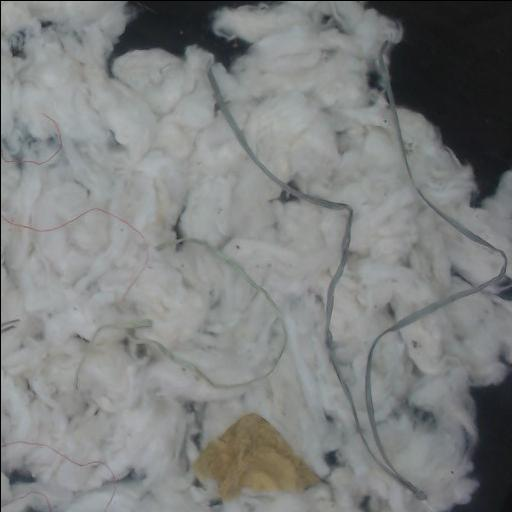cloth: (193, 413, 320, 500)
conveyor belt: (370, 1, 512, 206), (112, 1, 256, 65), (450, 371, 512, 512), (8, 471, 34, 483), (500, 287, 512, 298)
cotton: (1, 1, 501, 512), (372, 294, 512, 510), (398, 106, 512, 276)
thread: (207, 43, 507, 508), (136, 234, 288, 389), (1, 440, 119, 512), (75, 319, 151, 389), (1, 208, 143, 240), (1, 115, 62, 165), (122, 248, 151, 298), (11, 490, 52, 512)
